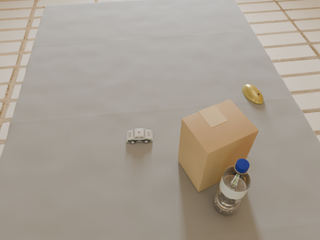bottle: (214, 158, 251, 215)
box: (178, 99, 259, 192)
mouse: (242, 84, 263, 104)
toy_car: (126, 129, 153, 144)
